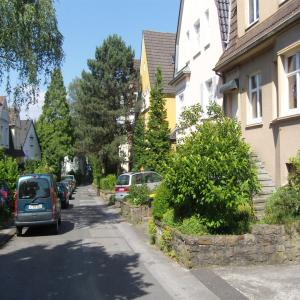Vehicle-registration-plate: (28, 206, 43, 210)
